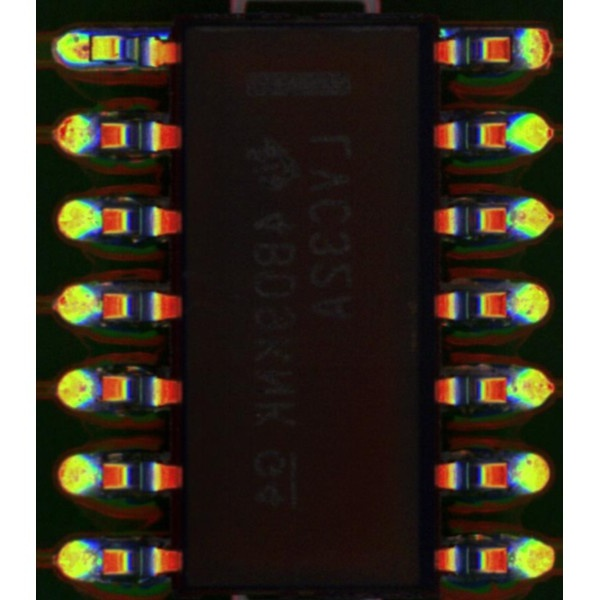Bad_podu: (71, 39, 103, 59)
